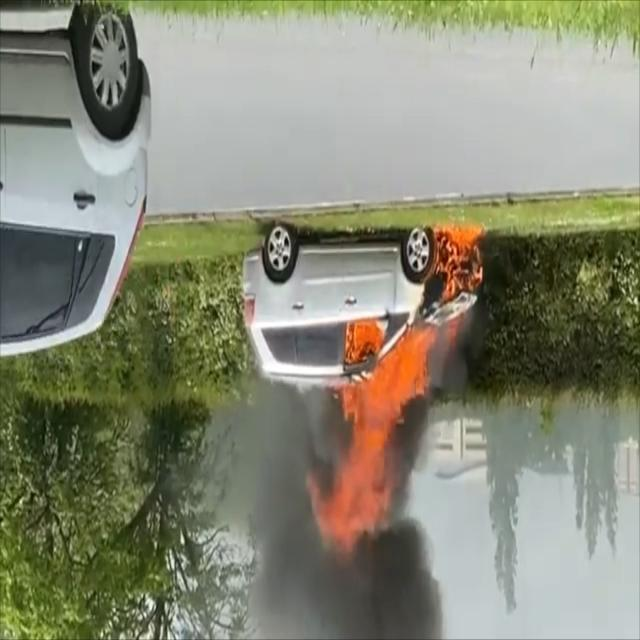fire: (323, 226, 488, 544)
